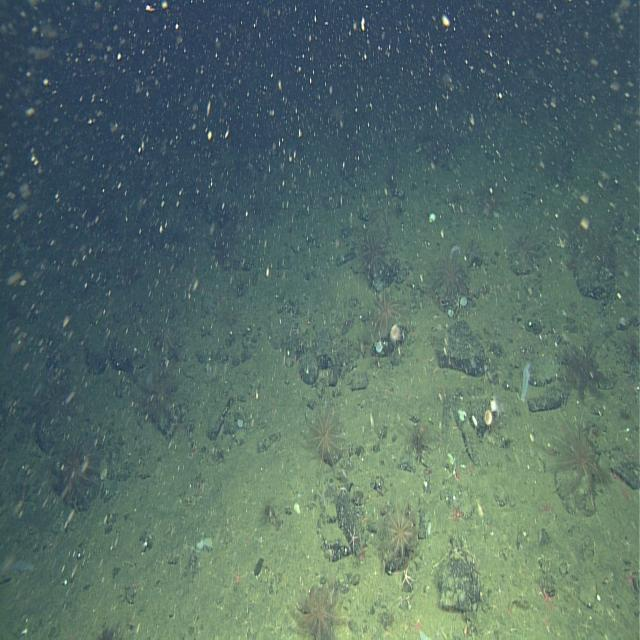Brittle Star: (398, 562, 416, 592)
Not Brittle Star: (547, 404, 610, 513), (291, 574, 348, 640), (302, 395, 348, 471), (377, 484, 419, 564), (54, 436, 100, 507), (432, 242, 469, 304), (367, 282, 403, 340), (508, 221, 544, 274), (358, 228, 390, 280), (519, 358, 533, 405), (12, 554, 36, 576), (482, 404, 495, 430)
